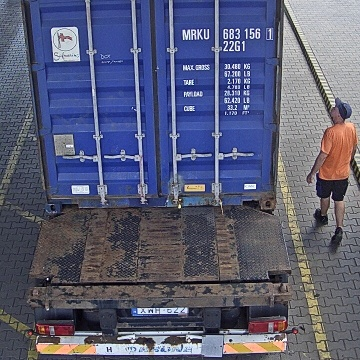serial_id: (183, 28, 273, 39)
